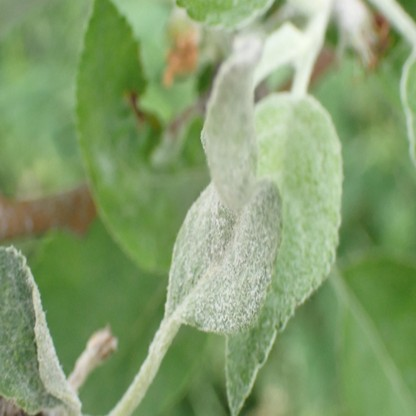powder: (227, 91, 343, 416), (167, 172, 285, 328), (0, 246, 83, 416), (200, 38, 259, 214)
